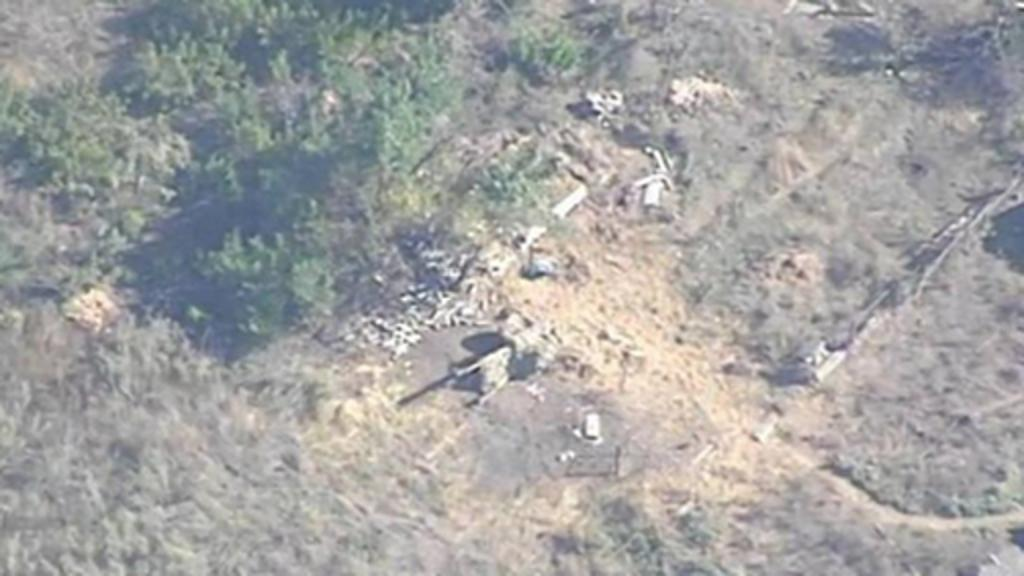ART: (452, 310, 552, 380)
